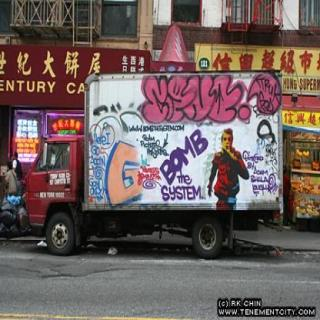Normal_vehicle: (25, 64, 294, 262)
